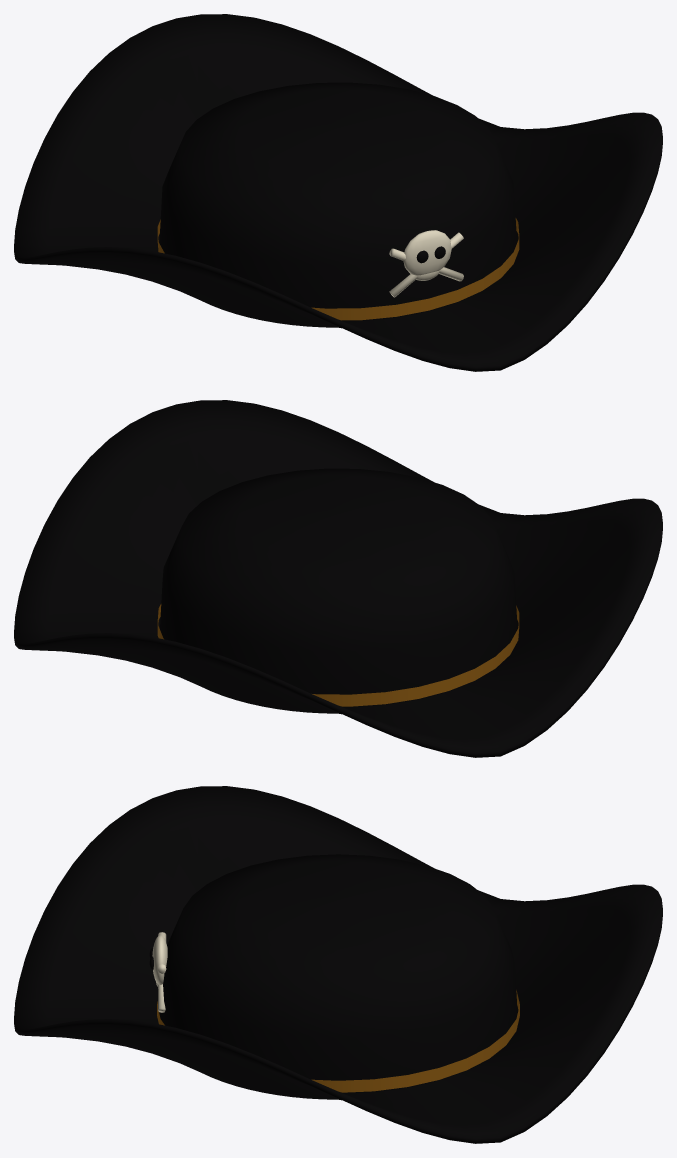
File: bajak_laut.obj
The picture shows the model from 3 angles, top to bottom: view 1: azimuth 30°, elevation 25°; view 2: azimuth 150°, elevation 25°; view 3: azimuth 270°, elevation 25°; orthographic projection.
Visible parts, largest first — view 1: bajak_tepi, bajak_mahkota, bajak_pita, bajak_tengkorak; view 2: bajak_tepi, bajak_mahkota, bajak_pita; view 3: bajak_tepi, bajak_mahkota, bajak_pita, bajak_tengkorak.
Boxes of the visible parts, x1,y1,x2,y2 form: bajak_tepi: [14, 14, 662, 371]; bajak_mahkota: [159, 82, 516, 327]; bajak_pita: [157, 218, 519, 320]; bajak_tengkorak: [403, 230, 451, 275]; bajak_tepi: [14, 400, 662, 757]; bajak_mahkota: [160, 468, 517, 707]; bajak_pita: [157, 604, 519, 706]; bajak_tepi: [14, 786, 662, 1143]; bajak_mahkota: [159, 854, 517, 1093]; bajak_pita: [157, 990, 519, 1092]; bajak_tengkorak: [152, 935, 167, 984].
Size of the model in its own units: 3.9 by 0.82 by 3.9.
